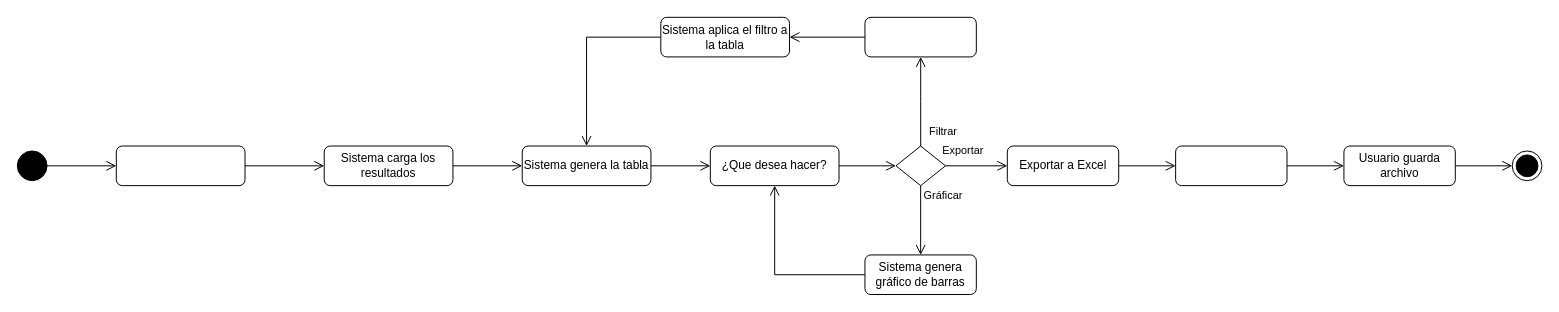
Image size: 1559x312. Some labels were removed from this diagram. The centre of each missing label's shape, as x and y in pixels:
"Abre el administrador de archivos" belongs at point (1231, 165).
"Usuario accede a la sección de resultados" belongs at point (180, 165).
"Usuario elige y aplica filtro" belongs at point (920, 36).
